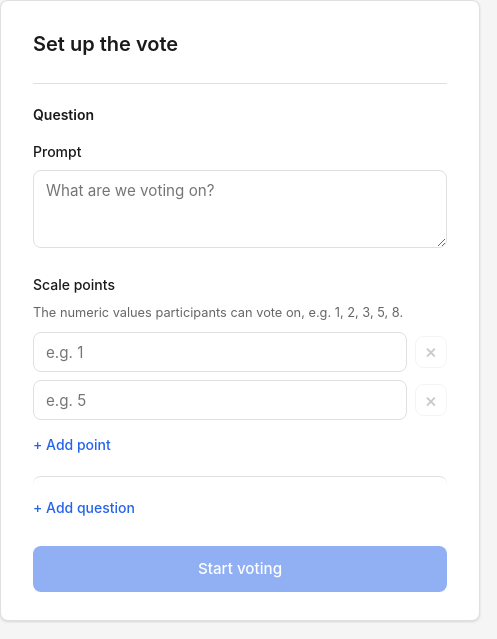
Scenario: PlanningForm › enables Start voting once a prompt and two different numeric options are filled in
The width and height of the screenshot is (497, 639).
Type "Task size" into the text box with placeholder "What are we voting on?" at point(240, 209), box [33, 170, 447, 248]
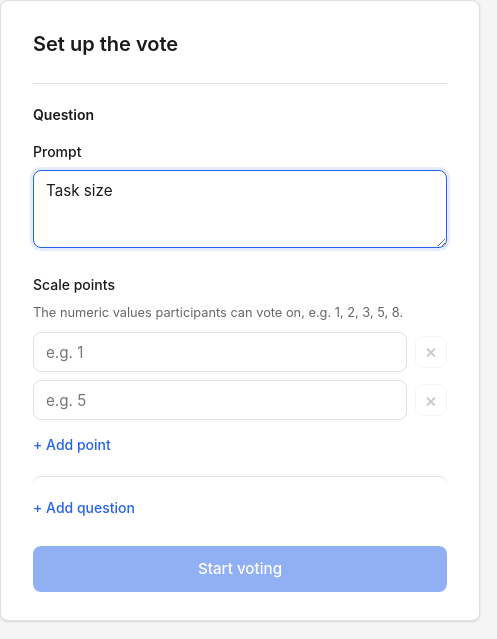
// Number inputs have the ARIA role "spinbutton"
Type "3" into the number field with placeholder "e.g. 1" at point(220, 352), box [33, 332, 407, 372]
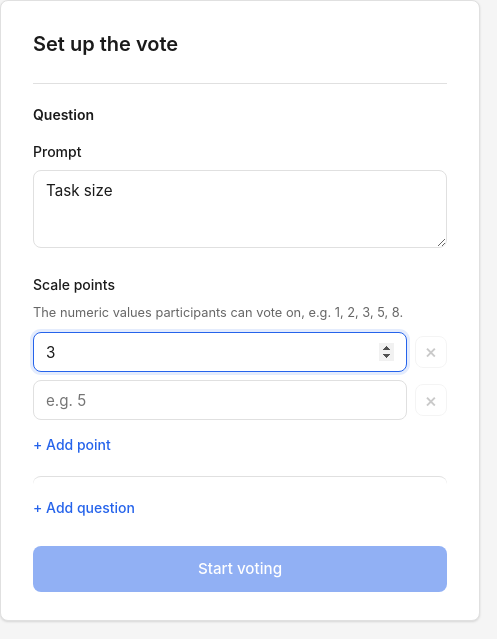
Type "5" into the number field with placeholder "e.g. 5" at point(220, 400), box [33, 380, 407, 420]
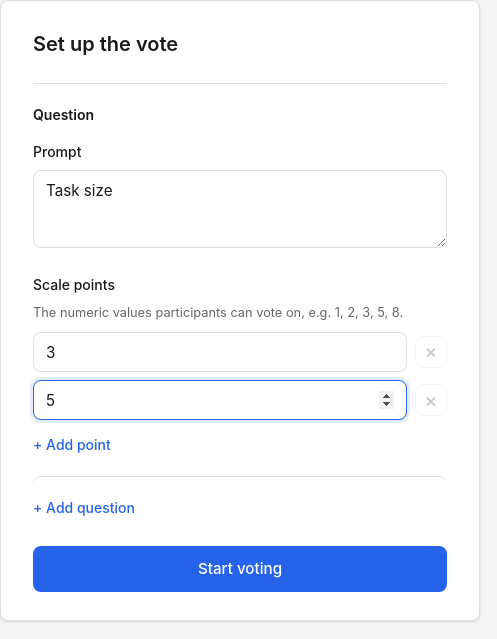
expect the button "Start voting" is enabled: met, box [33, 546, 447, 592]
